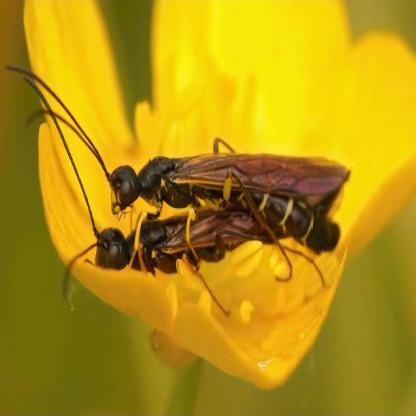sawfly: (4, 62, 352, 255), (16, 92, 303, 316)
